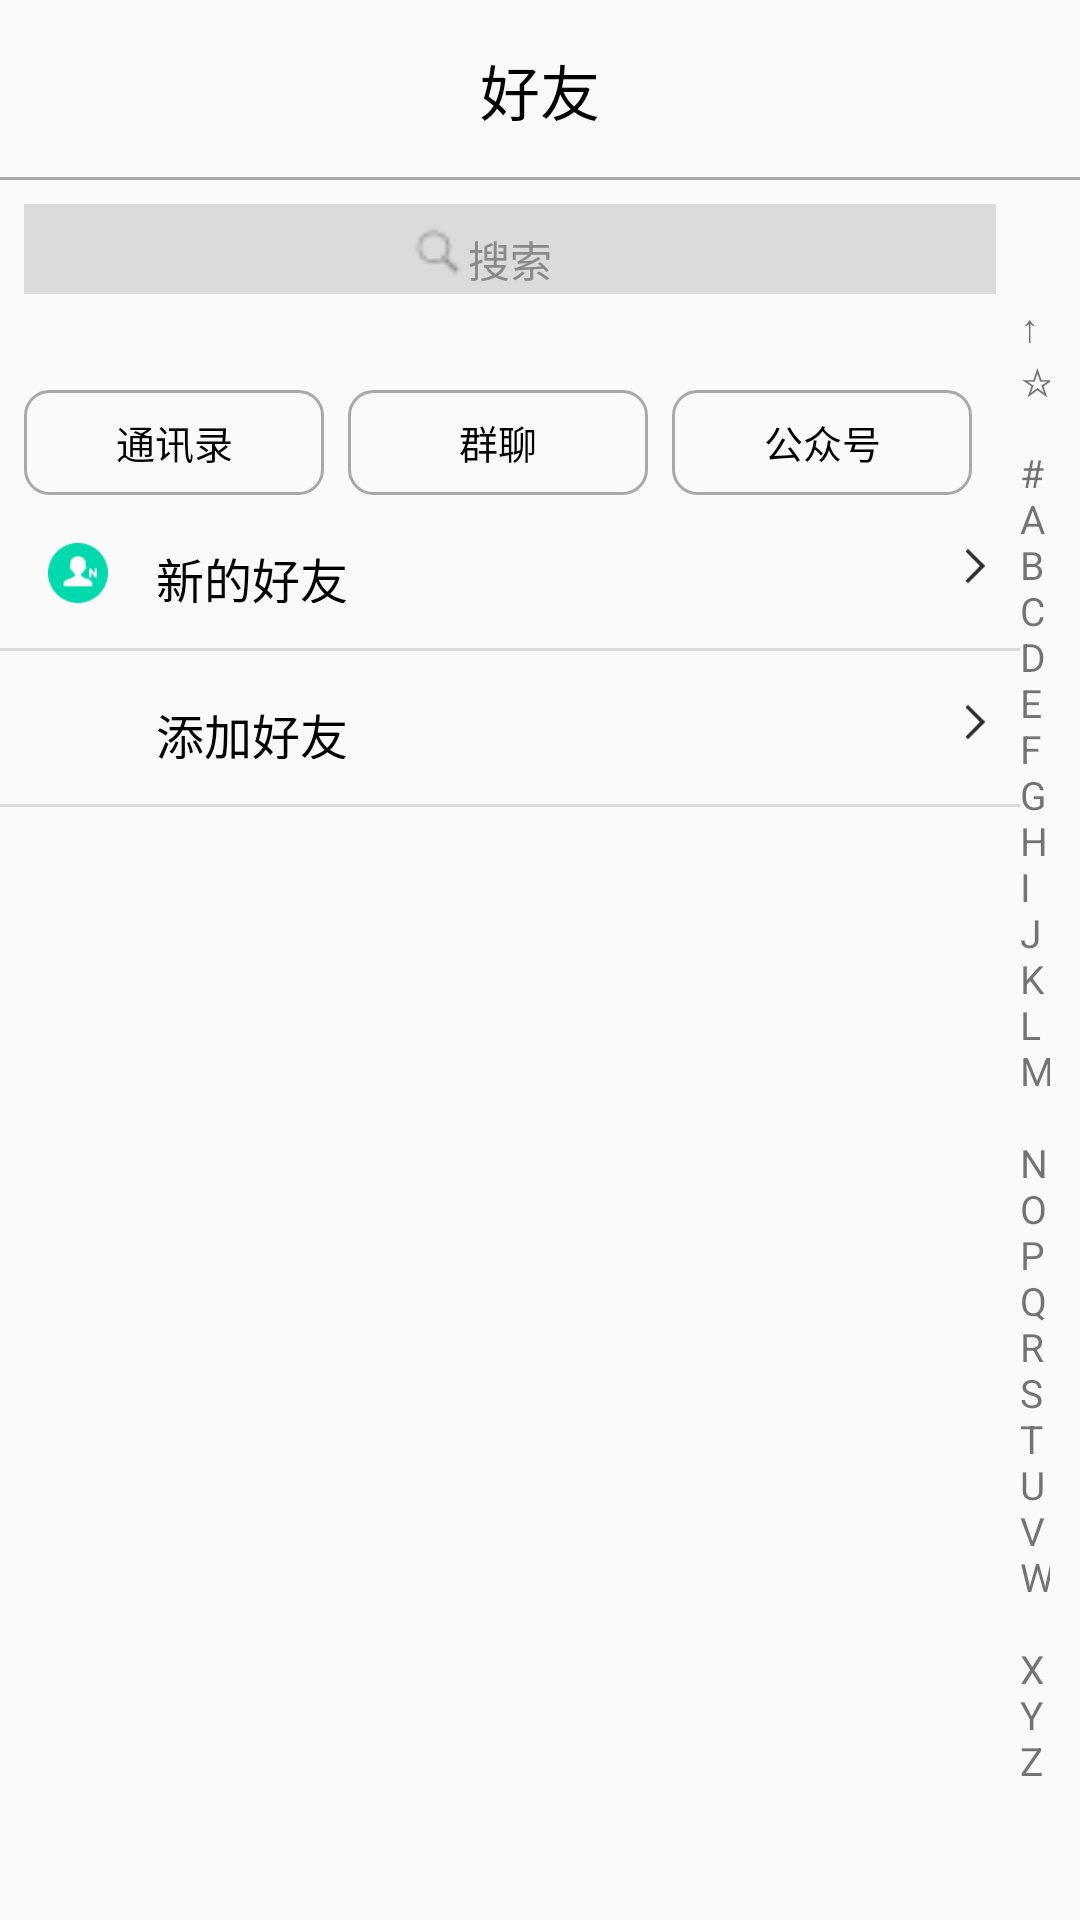

Where to tap for icons on this 1080×1920 app screen, as [x,y]:
advance: [975,566], [975,722]
push friends: [78,573]
